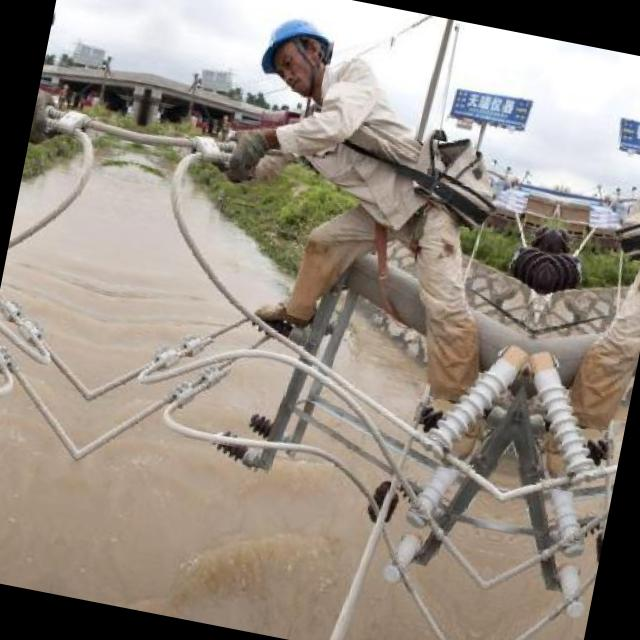helmet: (238, 0, 351, 111)
